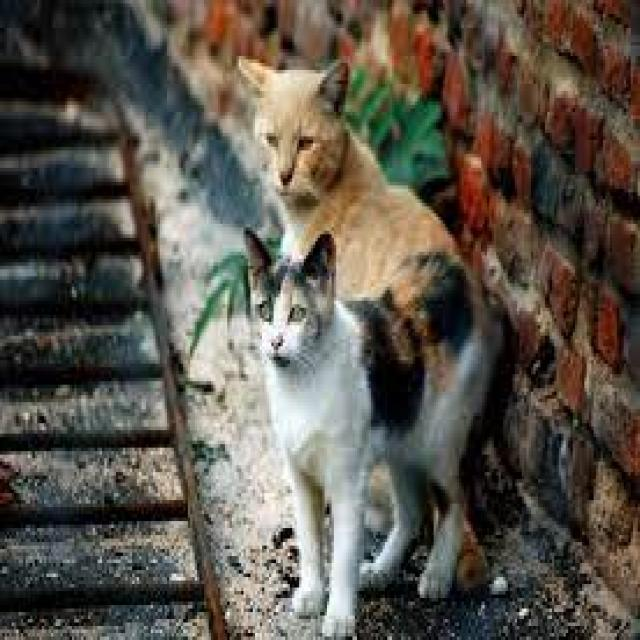cat: (241, 60, 500, 636)
